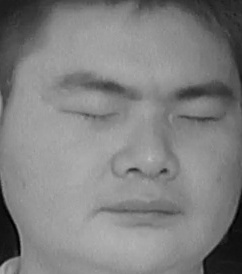blink: (69, 96, 118, 131), (175, 103, 222, 135)
mouth: (99, 186, 185, 230)
